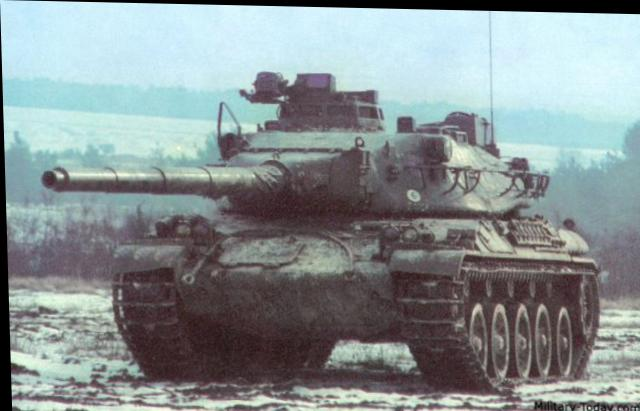tank: (105, 59, 607, 383)
